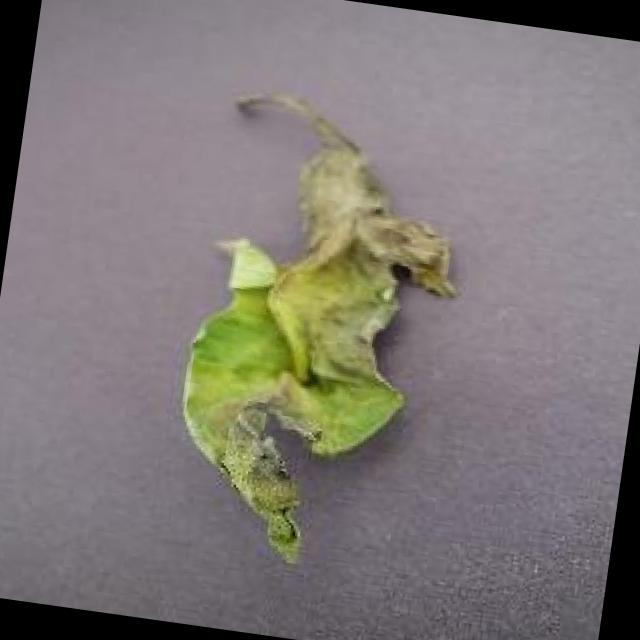Tomato_Late_Blight: (138, 75, 496, 601)
